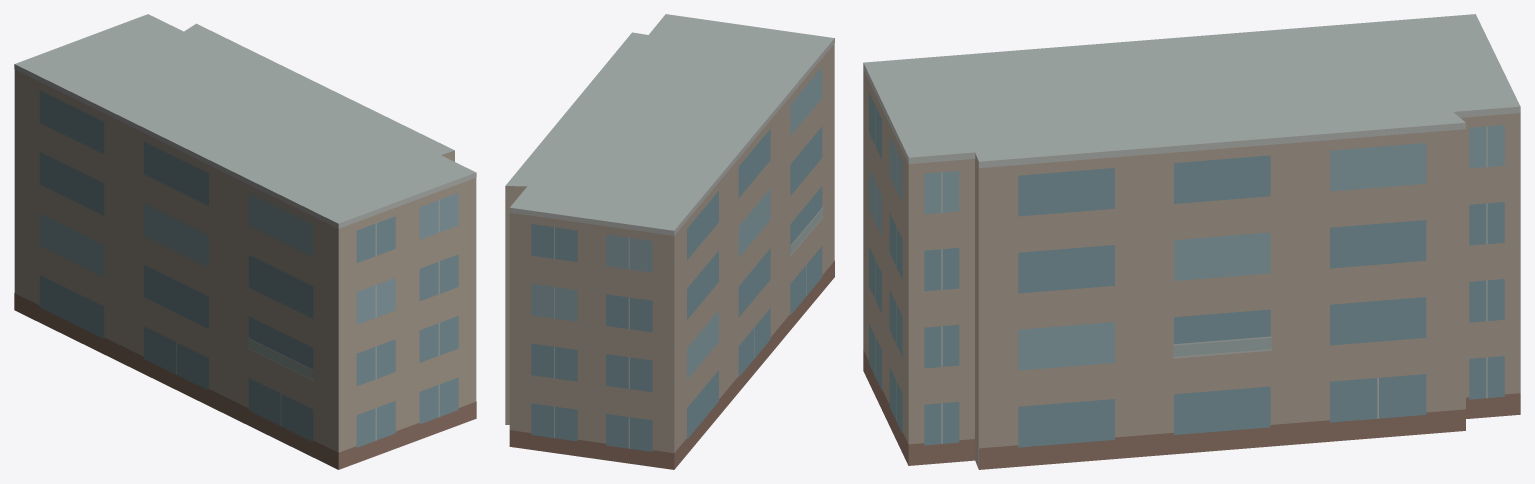
The model's file is survey-upis-32918991.glb.
3 views of the same model, side by side, from view 1: azimuth 30°, elevation 25°; view 2: azimuth 150°, elevation 25°; view 3: azimuth 270°, elevation 25° (orthographic). The views are drawn at different scales.
Parts seen in each view (by area): view 1: survey-upis-32918991.tmp; view 2: survey-upis-32918991.tmp; view 3: survey-upis-32918991.tmp.
Boxes of the visible parts, x1,y1,x2,y2 form: survey-upis-32918991.tmp: (14, 14, 476, 469); survey-upis-32918991.tmp: (505, 14, 834, 469); survey-upis-32918991.tmp: (863, 14, 1520, 469).
Bounding box in the file's own units: 12.04 × 11.7 × 22.63.
